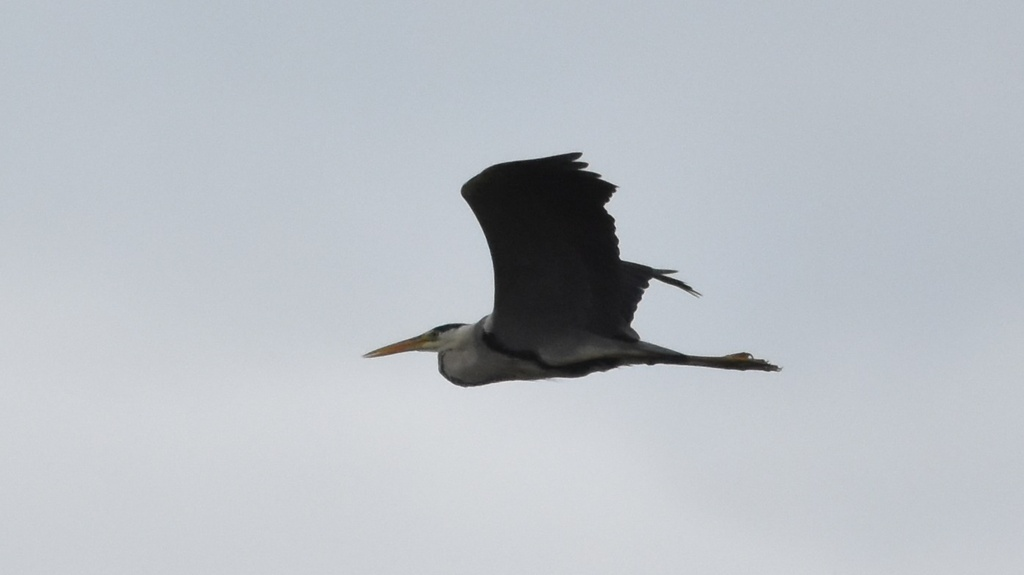heron: (360, 146, 781, 390)
